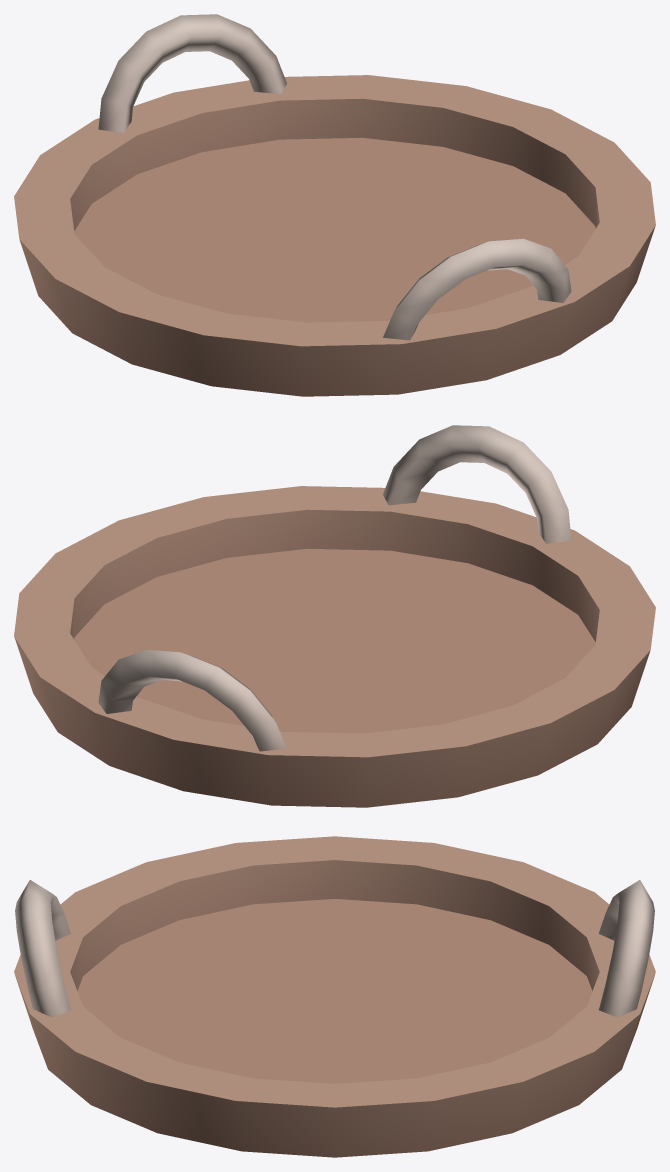
File: serving-tray-round.glb
3 renders of one model, top to bottom at view 1: azimuth 30°, elevation 25°; view 2: azimuth 150°, elevation 25°; view 3: azimuth 270°, elevation 25°, orthographic.
Visible parts, largest first — view 1: serving-tray-round; view 2: serving-tray-round; view 3: serving-tray-round.
Boxes of the visible parts, x1,y1,x2,y2 form: serving-tray-round: (14, 14, 655, 396); serving-tray-round: (14, 425, 655, 807); serving-tray-round: (14, 836, 655, 1157).
Size of the model in its own units: 0.522 by 0.1257 by 0.522.
